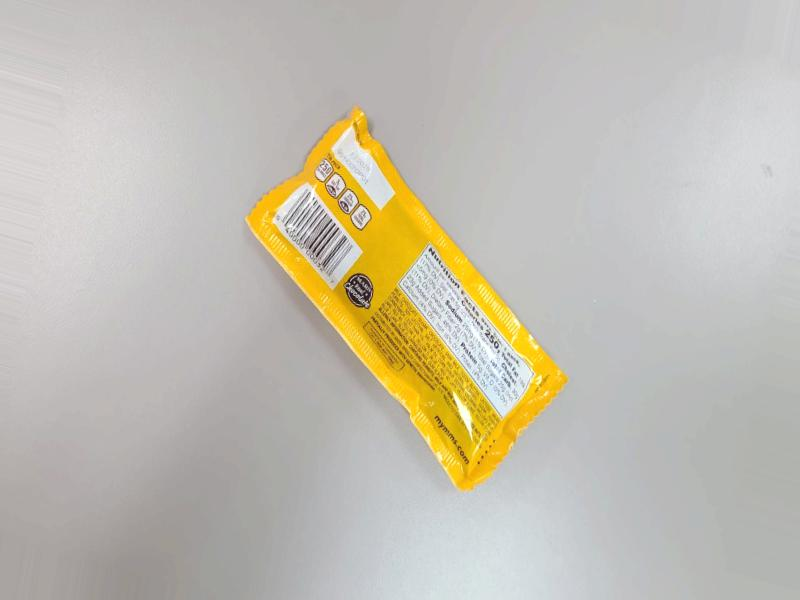m&m: (248, 98, 555, 475)
